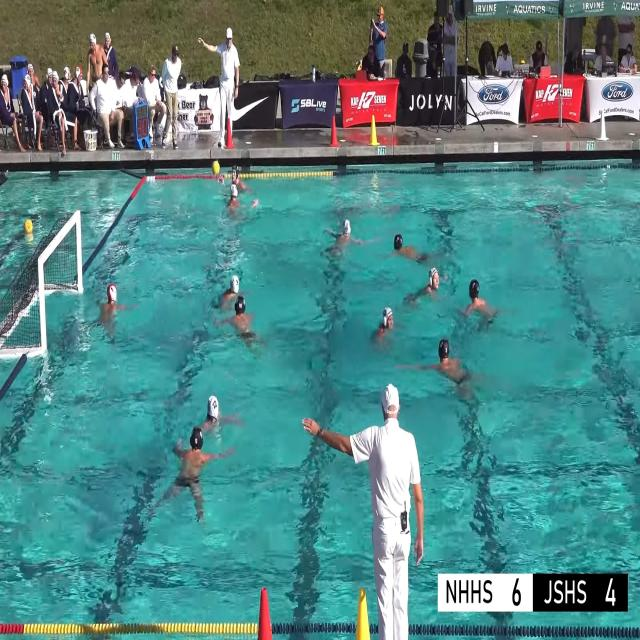ball: (23, 218, 32, 234), (212, 161, 220, 174)
